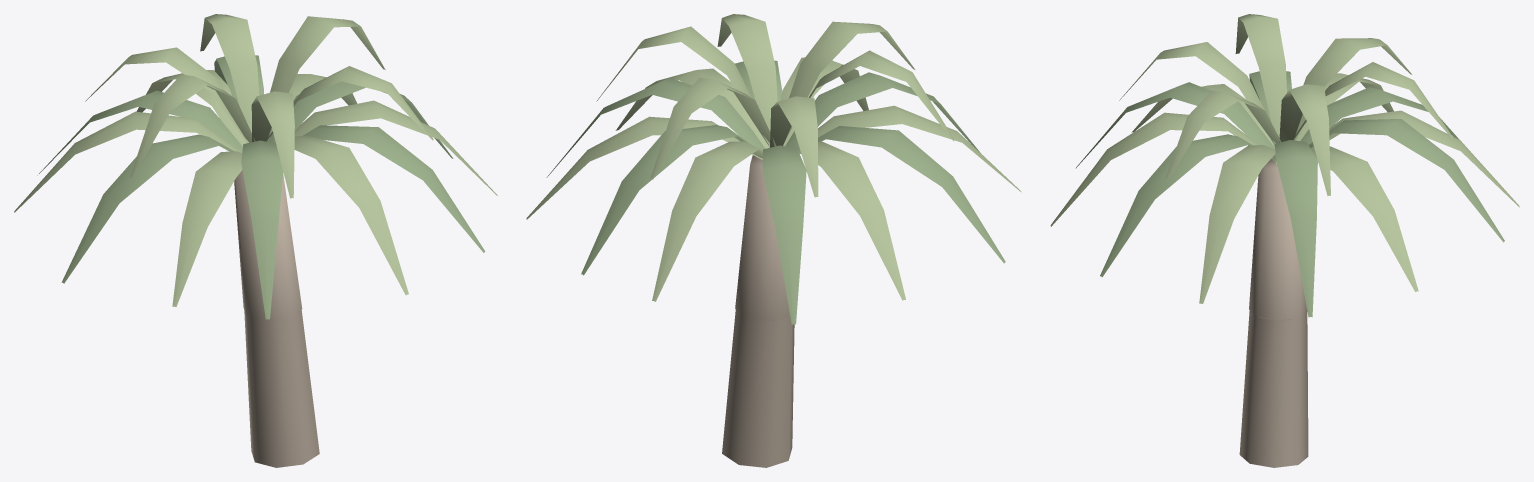
Rendered from small_palm_1.glb.
3 views of the same model, side by side, from view 1: azimuth 30°, elevation 25°; view 2: azimuth 150°, elevation 25°; view 3: azimuth 270°, elevation 25° (orthographic). The views are drawn at different scales.
Parts seen in each view (by area): view 1: small_palm_1.glb; view 2: small_palm_1.glb; view 3: small_palm_1.glb.
Part boxes in pixels (x1,y1,x2,y2): small_palm_1.glb: [14, 14, 497, 467]; small_palm_1.glb: [526, 14, 1021, 467]; small_palm_1.glb: [1050, 14, 1519, 467].
Size of the model in its own units: 2.79 by 2.62 by 2.79.
